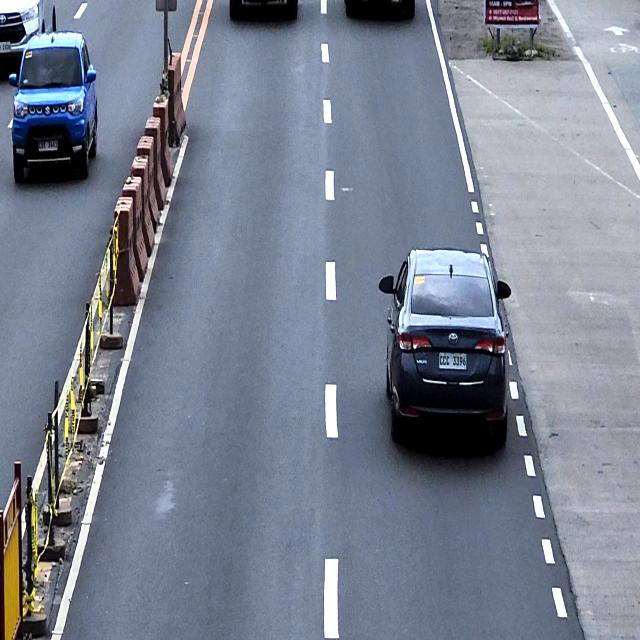Car: (378, 246, 512, 447), (9, 29, 98, 182)
License-Plate: (437, 350, 468, 371)
